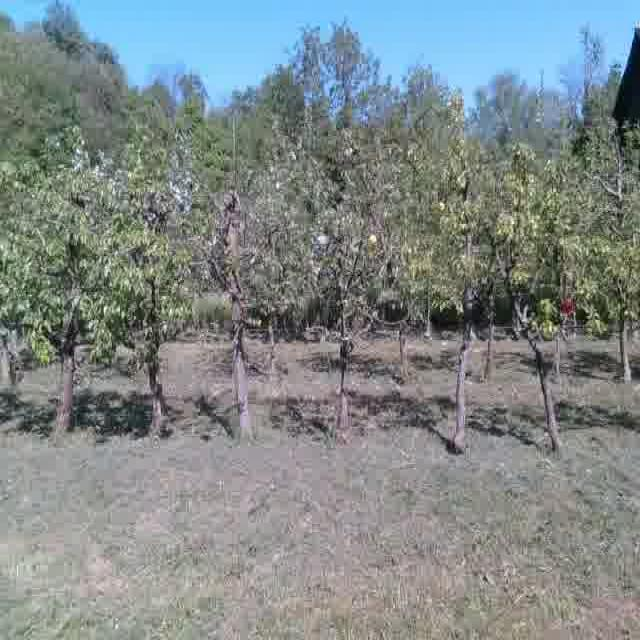red: (560, 294, 576, 318)
yellow: (368, 231, 379, 250)
